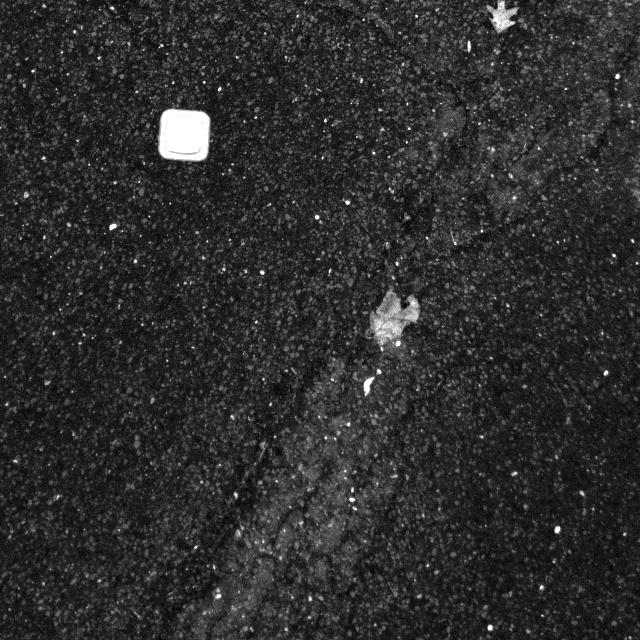container: (154, 98, 219, 165)
